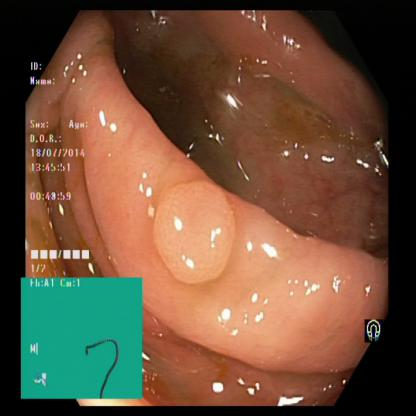Labels: (28, 54, 105, 276), (22, 278, 146, 400), (361, 304, 389, 350)
Polyps: (137, 179, 249, 286)
